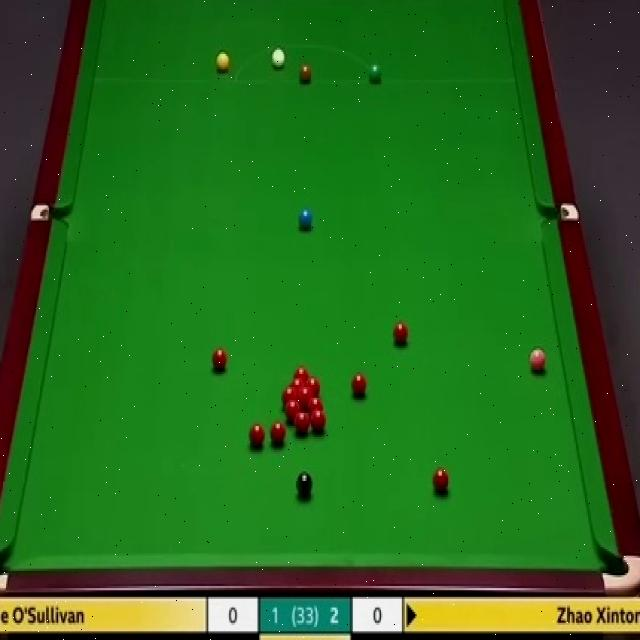black-ball: (296, 471, 313, 498)
blue-ball: (298, 207, 313, 227)
brown-ball: (298, 65, 313, 83)
green-ball: (368, 61, 383, 86)
pink-ball: (528, 347, 547, 373)
red-ball: (350, 371, 367, 400), (249, 420, 265, 448), (432, 468, 449, 493), (269, 422, 284, 449), (295, 411, 312, 434), (213, 347, 227, 374), (393, 321, 408, 346), (298, 386, 314, 409), (285, 398, 299, 422), (281, 387, 298, 406), (304, 376, 320, 396), (310, 411, 325, 432), (308, 398, 324, 415), (294, 364, 310, 378), (289, 376, 306, 389)
white-ball: (270, 47, 286, 70)
yellow-ball: (214, 51, 230, 73)
